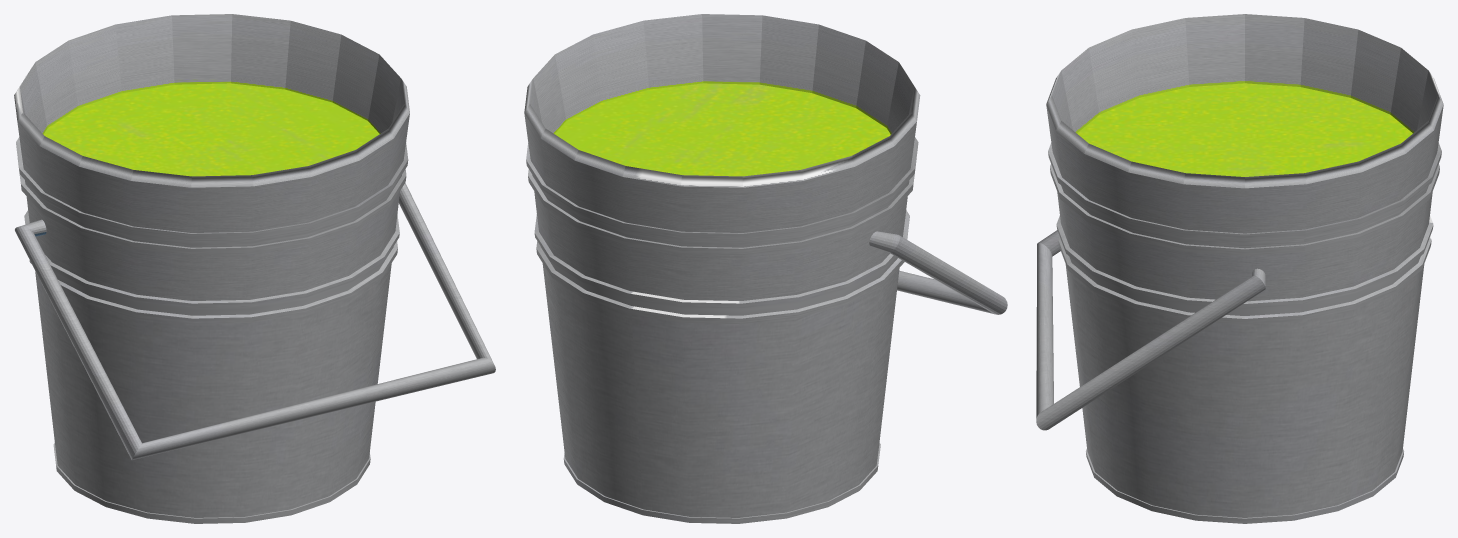
The model's file is BucketWithFertilizer.fbx.
The picture shows the model from 3 angles, left to right: view 1: azimuth 30°, elevation 25°; view 2: azimuth 150°, elevation 25°; view 3: azimuth 270°, elevation 25°; orthographic projection.
Parts seen in each view (by area): view 1: PaintBocket; view 2: PaintBocket; view 3: PaintBocket.
Part boxes in pixels (x1,y1,x2,y2): PaintBocket: [14, 14, 495, 523]; PaintBocket: [524, 14, 1007, 523]; PaintBocket: [1036, 14, 1443, 523].
Size of the model in its own units: 42.73 by 40.13 by 41.
